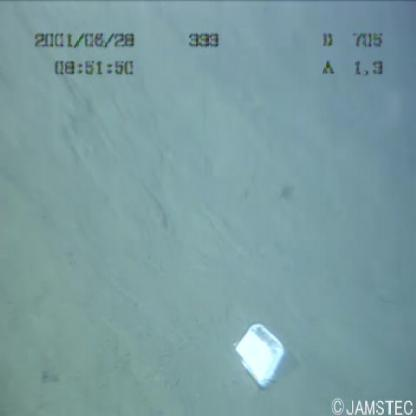Rác: (228, 324, 288, 384)
